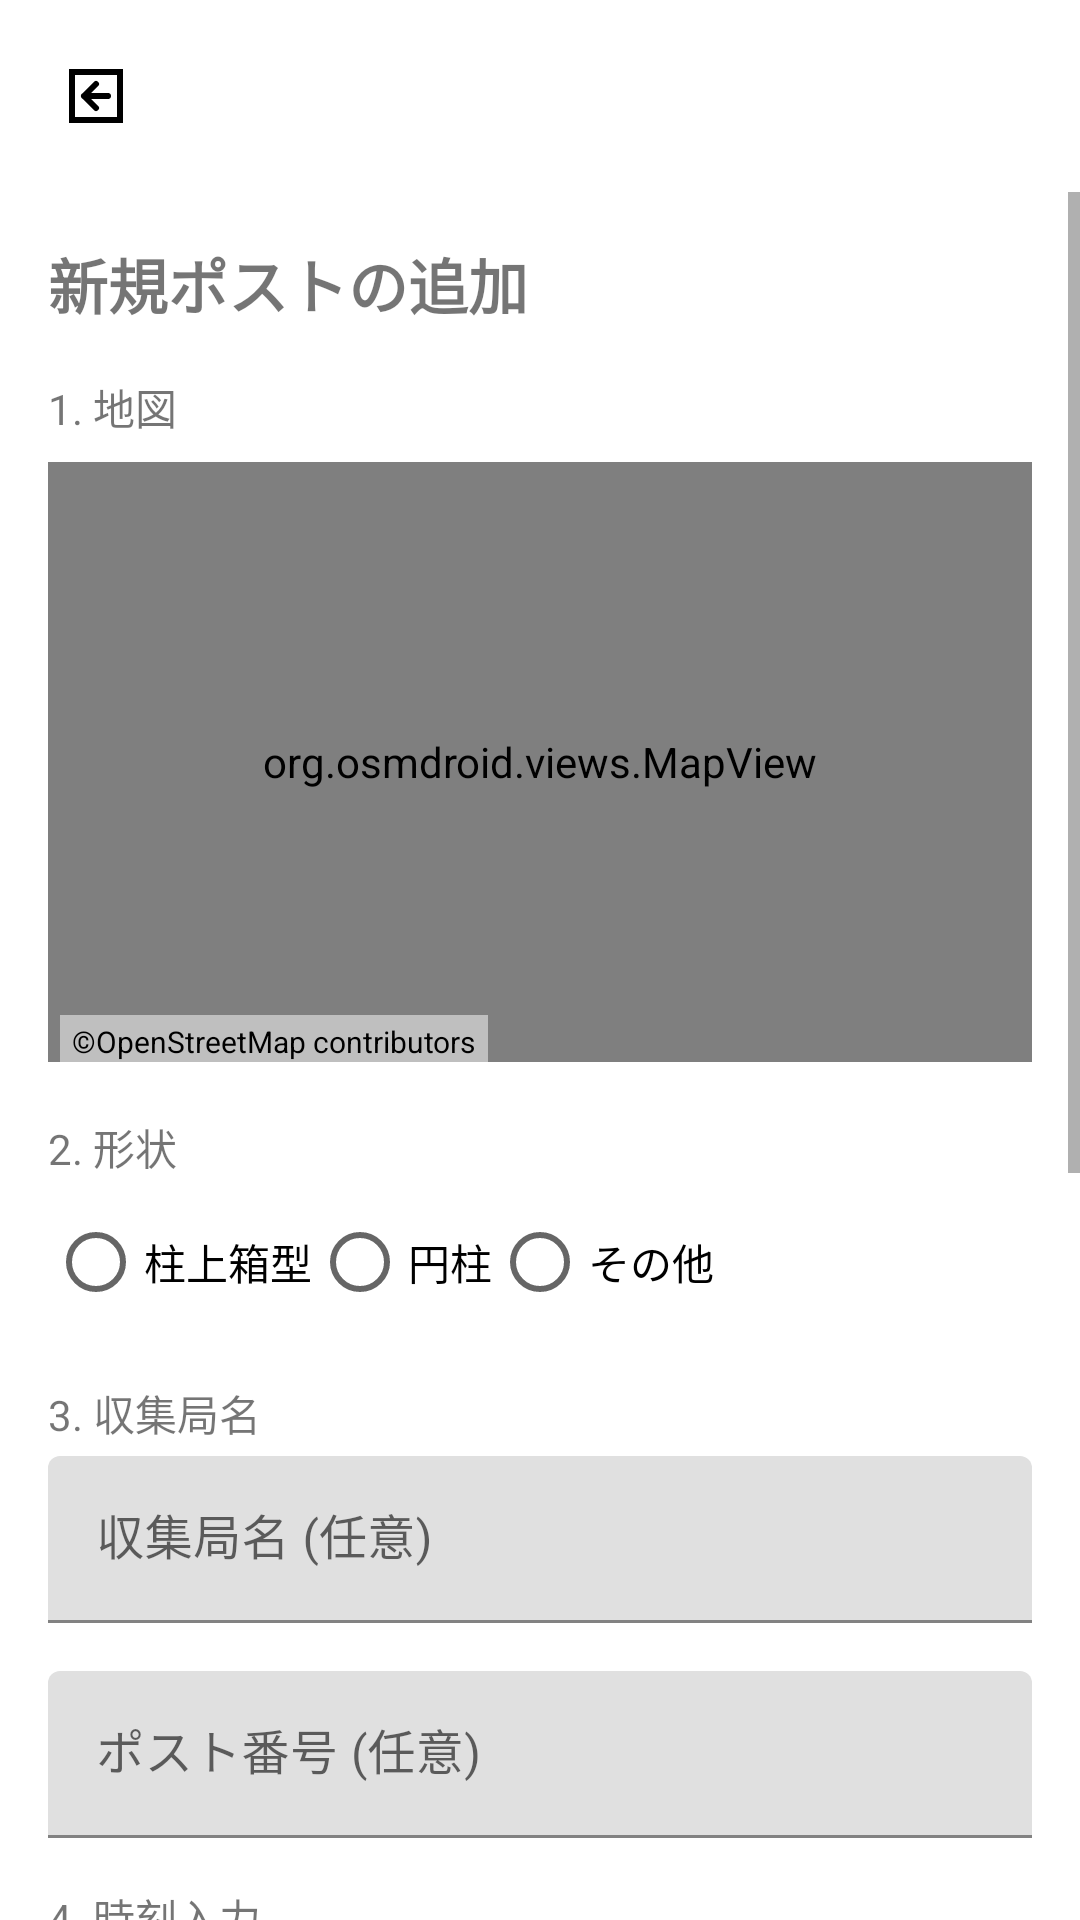

Named icons in this screenshot (1080*1920) and their bounding boxes, [left=x1, top=y1, right=x2, bottom=y2]:
戻る: [left=69, top=69, right=123, bottom=123]
